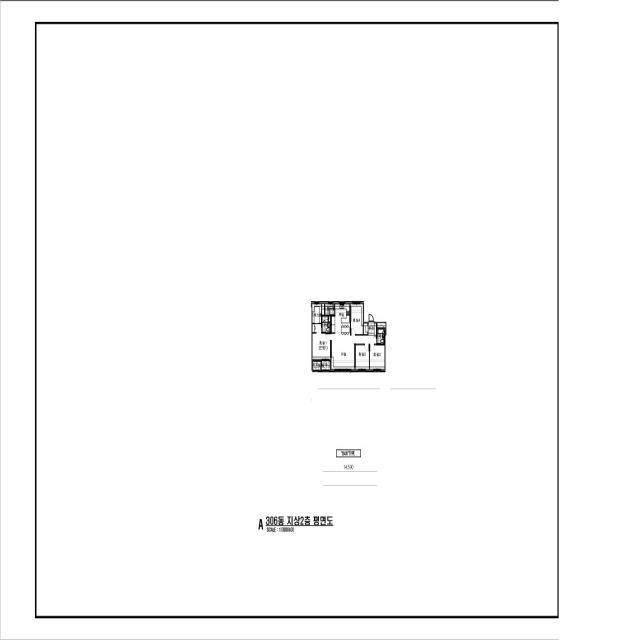background: (0, 0, 640, 639)
space_balconi: (322, 361, 330, 370)
space_bedroom: (312, 324, 330, 359), (351, 304, 363, 334), (370, 345, 385, 369), (356, 345, 369, 369)
space_dressroom: (312, 304, 321, 323)
space_front: (368, 322, 376, 335)
space_kitchen: (332, 304, 350, 334)
space_living_room: (331, 334, 376, 369)
space_multipurpose_space: (325, 304, 334, 315)
space_other: (364, 324, 368, 334), (377, 323, 385, 327), (322, 304, 324, 315), (329, 317, 330, 321)
space_outdoor_room: (313, 362, 321, 370)
space_toilet: (322, 317, 330, 332), (377, 329, 385, 344)
